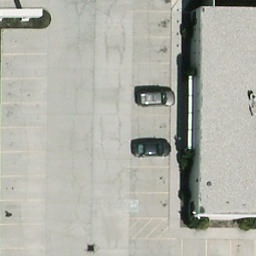car: (128, 139, 173, 158), (135, 91, 176, 106)
